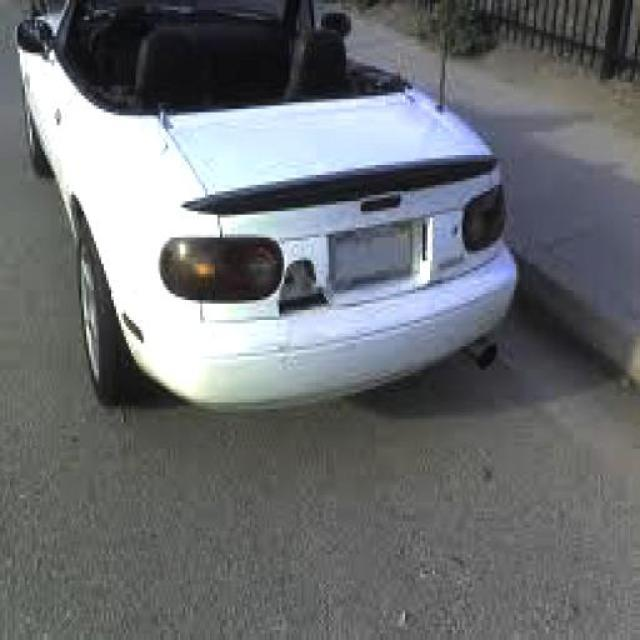car damage: (271, 249, 337, 334)
